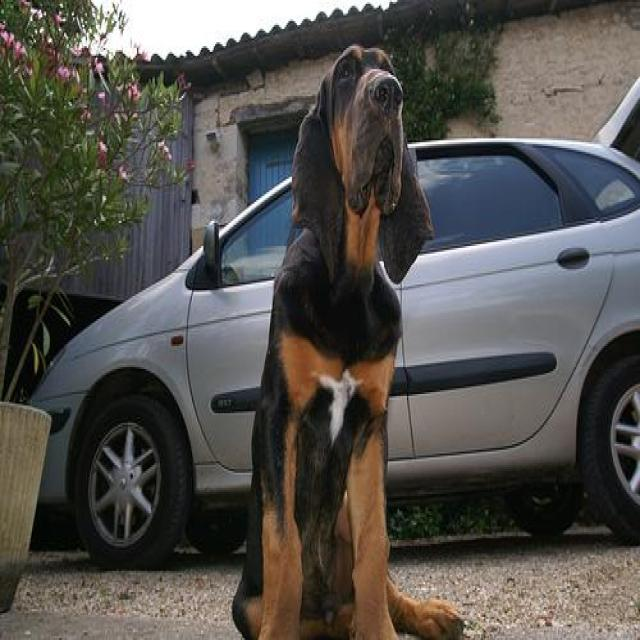bloodhound: (229, 41, 465, 636)
